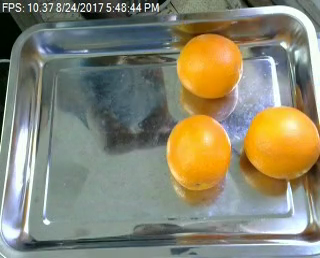Orange: (244, 107, 320, 181), (167, 113, 231, 190), (177, 33, 243, 99)
